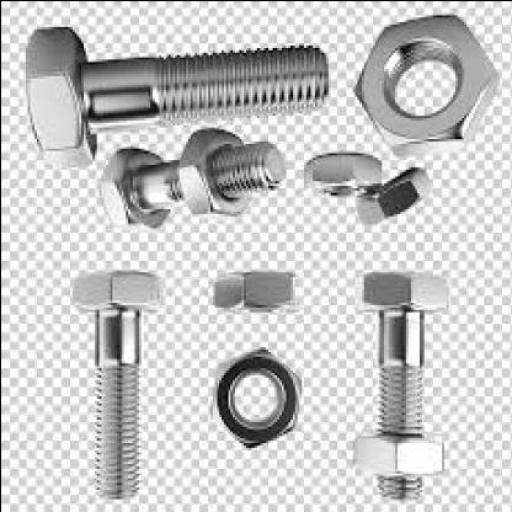metal: (22, 28, 325, 169), (349, 14, 494, 161), (71, 276, 158, 504), (98, 129, 285, 232), (359, 276, 442, 496), (209, 348, 297, 452), (377, 314, 421, 500), (91, 313, 135, 498), (173, 131, 245, 215), (352, 166, 430, 227), (71, 273, 155, 314), (302, 154, 376, 199), (352, 438, 441, 474), (359, 276, 442, 314), (212, 276, 292, 314)
